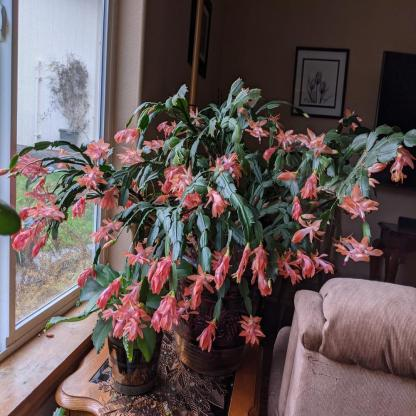Aglonema: (91, 63, 416, 252)
